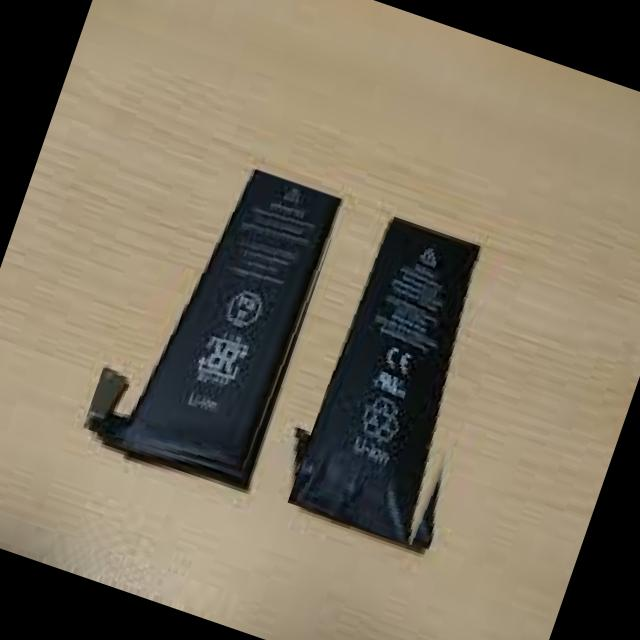Hazard: (94, 171, 324, 466), (289, 222, 465, 544)
